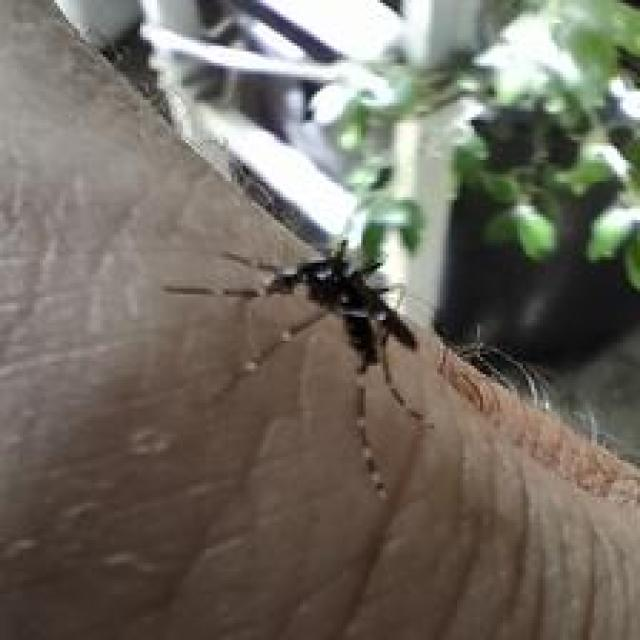Aedes albopictus: (161, 234, 550, 503)
